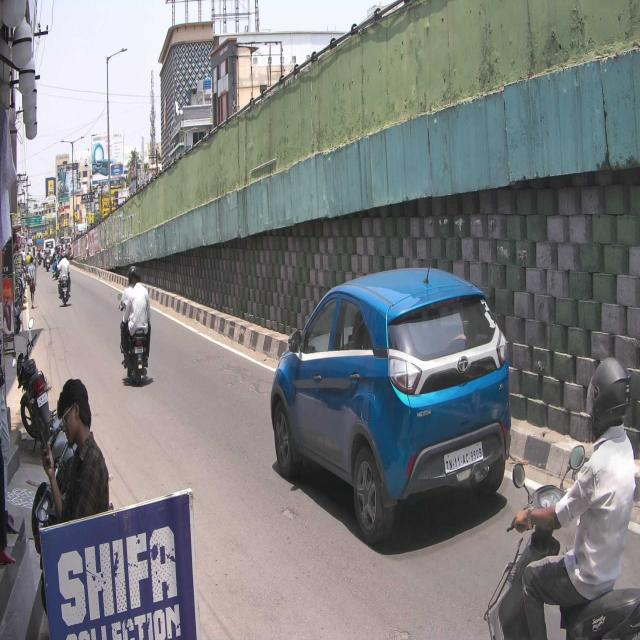single_rider: (481, 356, 640, 640)
